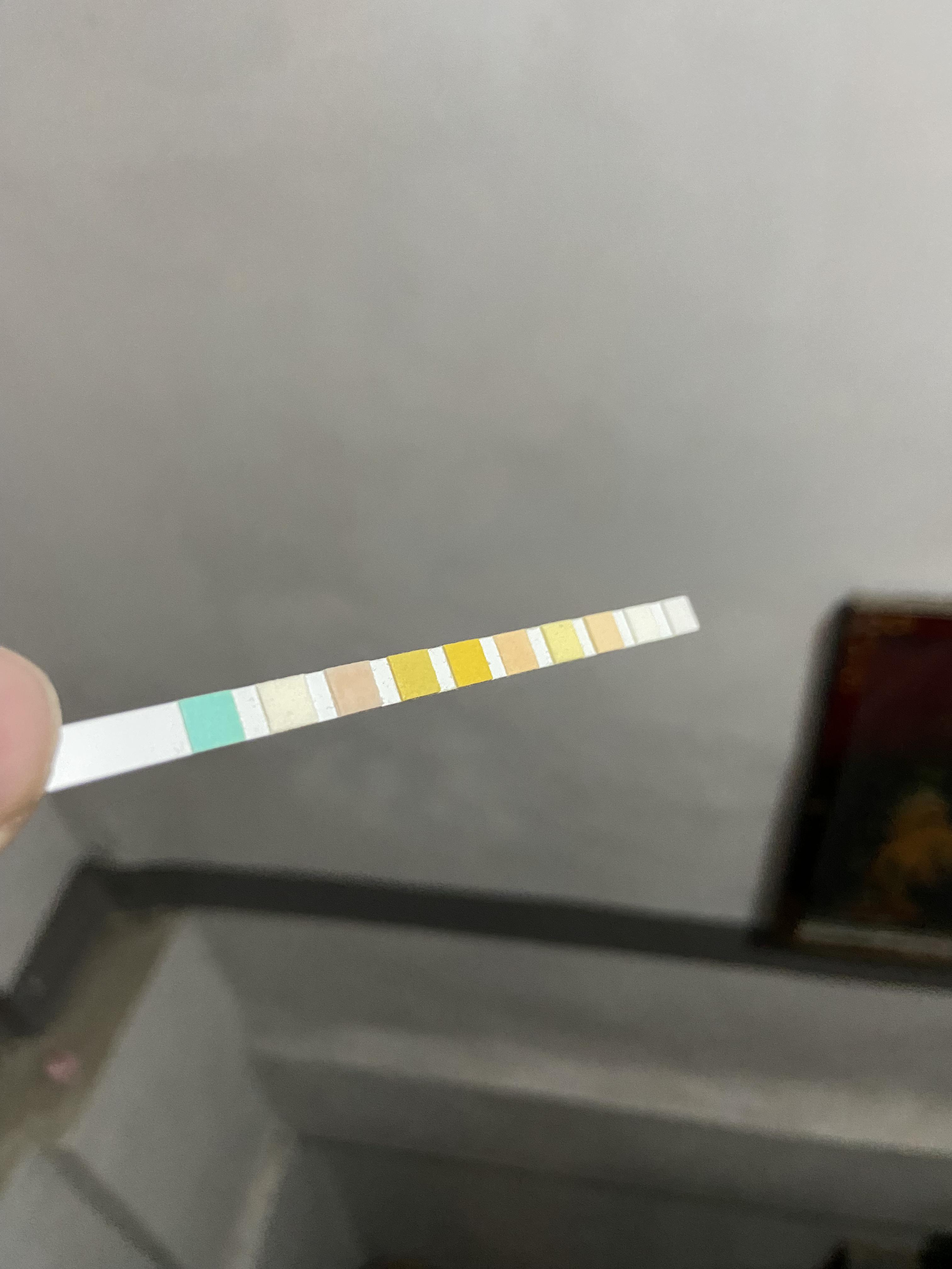Bilirubin: (269, 683, 306, 726)
Blood: (455, 644, 483, 681)
Glucose: (194, 699, 233, 742)
Ketone: (338, 667, 371, 710)
Leukocytes: (677, 599, 690, 632)
Nitrite: (636, 607, 652, 641)
Protein: (554, 623, 574, 660)
SpGravity: (403, 655, 431, 695)
Urobilinogen: (597, 615, 613, 652)
pH: (506, 633, 529, 672)
strip: (67, 596, 700, 785)
